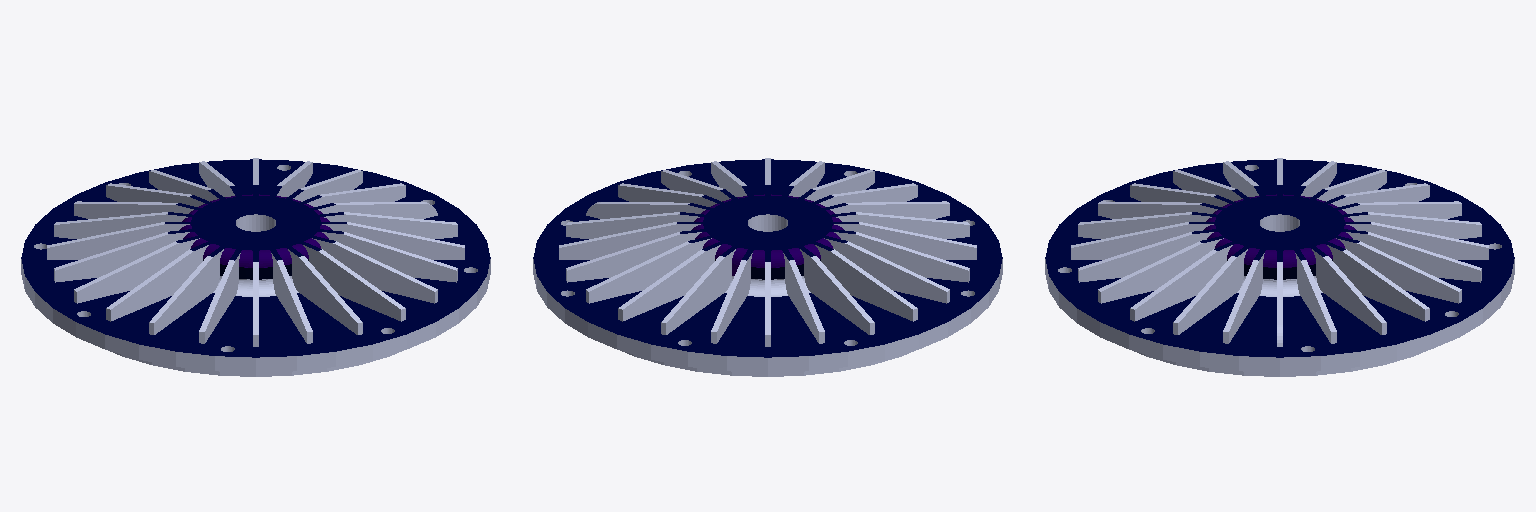
3 views of the same model, side by side, from view 1: azimuth 30°, elevation 25°; view 2: azimuth 150°, elevation 25°; view 3: azimuth 270°, elevation 25° (orthographic).
Parts seen in each view (by area): view 1: Part5.SLDPRT-4, Part5.SLDPRT-5, Part5.SLDPRT-2, Part5.SLDPRT-1; view 2: Part5.SLDPRT-4, Part5.SLDPRT-5, Part5.SLDPRT-2, Part5.SLDPRT-1; view 3: Part5.SLDPRT-4, Part5.SLDPRT-5, Part5.SLDPRT-2, Part5.SLDPRT-1.
Boxes of the visible parts, box(x1,y1,x2,y2) form: Part5.SLDPRT-4: box(21, 158, 490, 376); Part5.SLDPRT-5: box(21, 159, 490, 357); Part5.SLDPRT-2: box(180, 194, 331, 267); Part5.SLDPRT-1: box(213, 276, 298, 296); Part5.SLDPRT-4: box(533, 158, 1002, 376); Part5.SLDPRT-5: box(533, 159, 1002, 357); Part5.SLDPRT-2: box(692, 194, 843, 275); Part5.SLDPRT-1: box(725, 276, 810, 296); Part5.SLDPRT-4: box(1045, 158, 1514, 376); Part5.SLDPRT-5: box(1045, 159, 1514, 357); Part5.SLDPRT-2: box(1204, 194, 1355, 267); Part5.SLDPRT-1: box(1237, 276, 1322, 296).
Bounding box in the file's own units: 228 × 35.35 × 228.